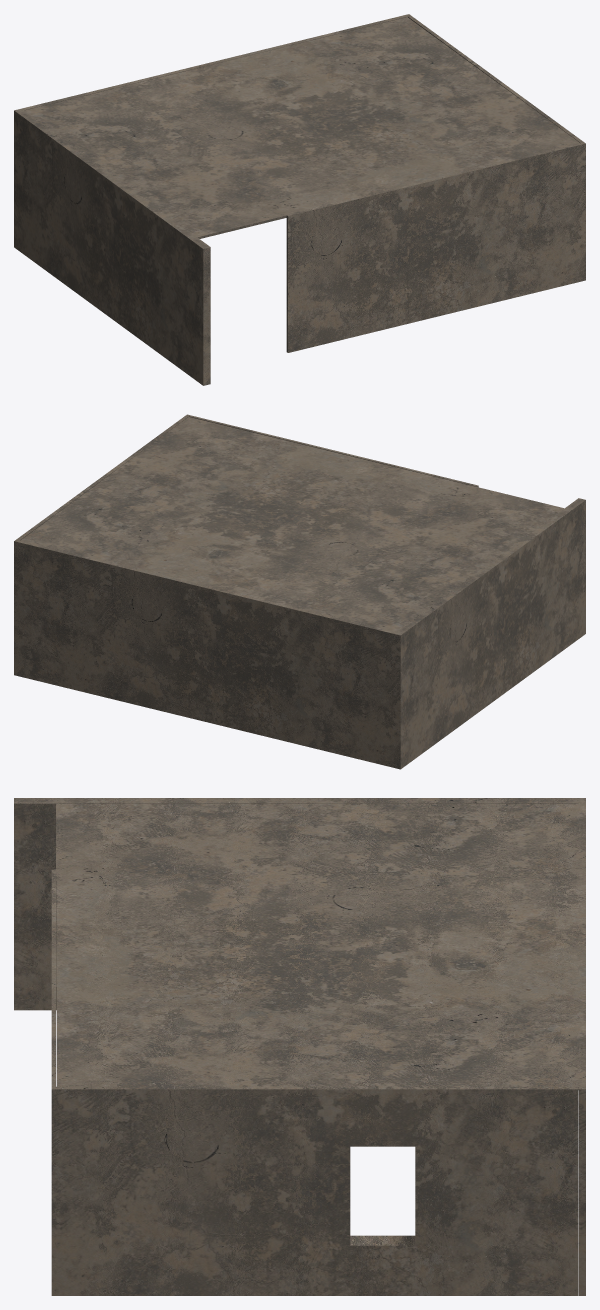
File: UD_Start_Room.fbx
3 views of the same model, one above another, from view 1: azimuth 30°, elevation 25°; view 2: azimuth 150°, elevation 25°; view 3: azimuth 270°, elevation 25° (orthographic). The views are drawn at different scales.
Visible parts, largest first — view 1: SM_MERGED_StaticMeshActor_713_LOD0; view 2: SM_MERGED_StaticMeshActor_713_LOD0; view 3: SM_MERGED_StaticMeshActor_713_LOD0.
Part boxes in pixels (x1=…): SM_MERGED_StaticMeshActor_713_LOD0: x1=14, y1=14, x2=585, y2=385; SM_MERGED_StaticMeshActor_713_LOD0: x1=14, y1=414, x2=585, y2=769; SM_MERGED_StaticMeshActor_713_LOD0: x1=14, y1=798, x2=585, y2=1295.
Bounding box in the file's own units: 1060 × 351 × 880.
